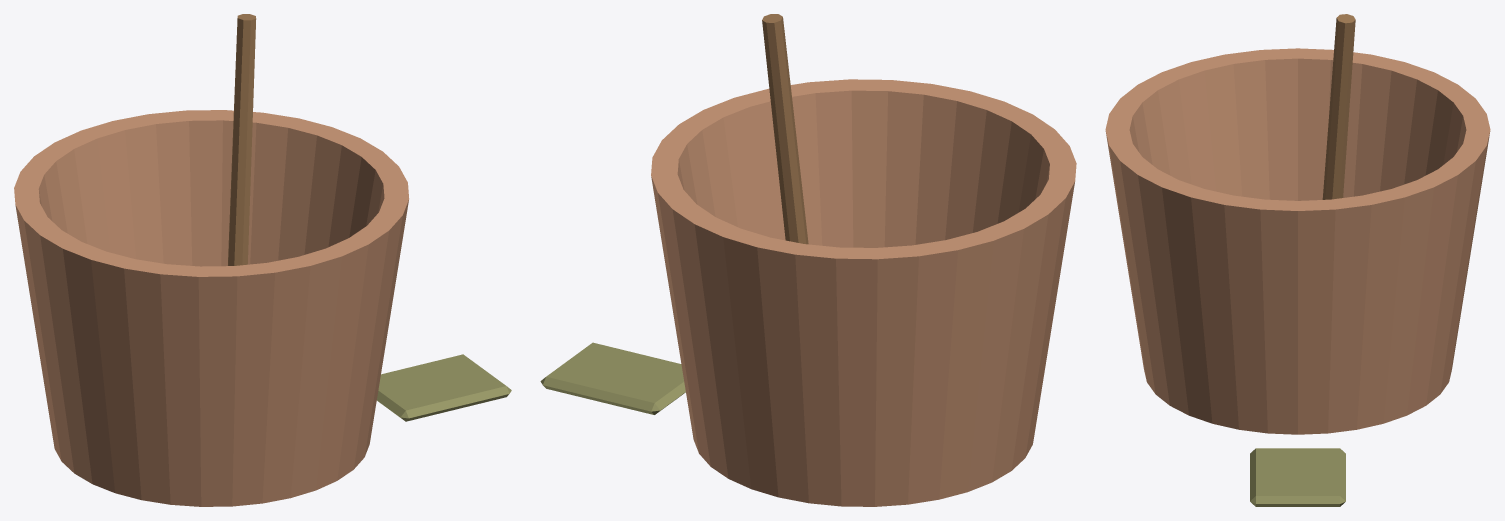
3 renders of one model, left to right at view 1: azimuth 30°, elevation 25°; view 2: azimuth 150°, elevation 25°; view 3: azimuth 270°, elevation 25°, orthographic. The views are drawn at different scales.
Visible parts, largest first — view 1: CE-051 Shell-dye extraction vat and paddle batched; view 2: CE-051 Shell-dye extraction vat and paddle batched; view 3: CE-051 Shell-dye extraction vat and paddle batched.
Boxes of the visible parts, <box> form: CE-051 Shell-dye extraction vat and paddle batched: <box>14,14,511,506</box>; CE-051 Shell-dye extraction vat and paddle batched: <box>540,14,1076,506</box>; CE-051 Shell-dye extraction vat and paddle batched: <box>1105,14,1490,506</box>.
Size of the model in its own units: 1.05 by 0.8895 by 0.8.
